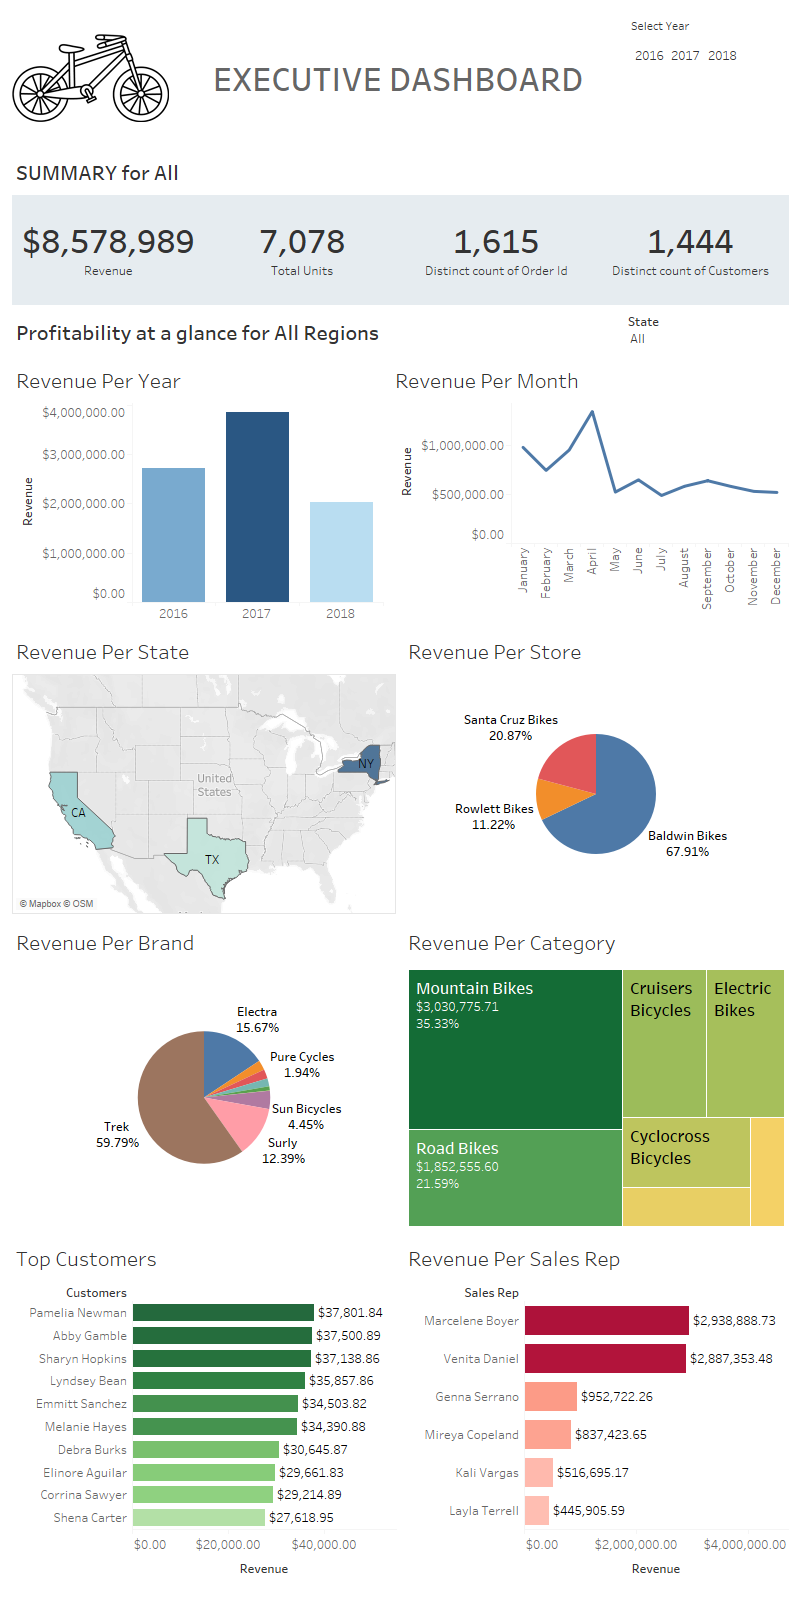

What the dashboard file says about the page in this screenshot:
{"tool":"tableau","page":{"name":"Dashboard 1","canvas":[1450,850],"ordinal":0},"visuals":[{"type":"text","box":[23,8,992,65]},{"type":"text","box":[1225,9,187,75]},{"type":"worksheet","title":"Sheet 3 (2)","mark":"Automatic","box":[1177,24,40,40]},{"type":"text","box":[1225,63,221,75]},{"type":"worksheet","title":"Sheet 4 (2)","mark":"Automatic","box":[1177,83,40,40]},{"type":"image","param":"Image/Olympic_rings_without_rims.svg","box":[44,98,172,90]},{"type":"text","box":[768,113,100,30]},{"type":"text","box":[335,219,140,30]},{"type":"text","box":[23,231,305,152]},{"type":"text","box":[530,338,140,30]},{"type":"text","box":[21,361,305,104]},{"type":"text","box":[1089,371,140,30]},{"type":"text","box":[1146,480,140,30]},{"type":"text","box":[104,497,40,28]},{"type":"text","box":[378,567,305,104]},{"type":"text","box":[652,598,140,30]},{"type":"text","box":[104,602,40,40]},{"type":"text","box":[1082,636,127,72]},{"type":"text","box":[190,639,40,40]},{"type":"text","box":[709,676,108,58]},{"type":"text","box":[278,683,40,40]},{"type":"worksheet","title":"Sheet 4","mark":"Automatic","box":[659,686,40,40]},{"type":"text","box":[190,703,40,40]},{"type":"worksheet","title":"Sheet 8","mark":"Automatic","rows":["Country (Host cities for Summer and Wint) (copy)_28009575111"],"cols":["Year"],"box":[933,711,362,126]},{"type":"text","box":[104,727,40,40]},{"type":"text","box":[709,727,108,58]},{"type":"text","box":[366,732,40,40]},{"type":"text","box":[278,737,40,40]},{"type":"worksheet","title":"Sheet 3","mark":"Automatic","box":[659,738,40,40]},{"type":"text","box":[453,755,40,40]},{"type":"text","box":[190,765,40,40]},{"type":"text","box":[539,765,40,40]},{"type":"text","box":[278,775,40,40]}]}

Visuals, with their boxes on the page's 1450x850 design canvas (x1, y1, x2, y2). These are canvas units, not pixel positions in the 800x1600 screenshot, which may show the page scaled, cropped or inside an application window:
text: <box>23,8,1015,73</box>
text: <box>1225,9,1412,84</box>
"Sheet 3 (2)" worksheet: <box>1177,24,1217,64</box>
text: <box>1225,63,1446,138</box>
"Sheet 4 (2)" worksheet: <box>1177,83,1217,123</box>
image: <box>44,98,216,188</box>
text: <box>768,113,868,143</box>
text: <box>335,219,475,249</box>
text: <box>23,231,328,383</box>
text: <box>530,338,670,368</box>
text: <box>21,361,326,465</box>
text: <box>1089,371,1229,401</box>
text: <box>1146,480,1286,510</box>
text: <box>104,497,144,525</box>
text: <box>378,567,683,671</box>
text: <box>652,598,792,628</box>
text: <box>104,602,144,642</box>
text: <box>1082,636,1209,708</box>
text: <box>190,639,230,679</box>
text: <box>709,676,817,734</box>
text: <box>278,683,318,723</box>
"Sheet 4" worksheet: <box>659,686,699,726</box>
text: <box>190,703,230,743</box>
"Sheet 8" worksheet: <box>933,711,1295,837</box>
text: <box>104,727,144,767</box>
text: <box>709,727,817,785</box>
text: <box>366,732,406,772</box>
text: <box>278,737,318,777</box>
"Sheet 3" worksheet: <box>659,738,699,778</box>
text: <box>453,755,493,795</box>
text: <box>190,765,230,805</box>
text: <box>539,765,579,805</box>
text: <box>278,775,318,815</box>
